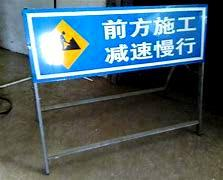sign: (25, 9, 204, 77)
